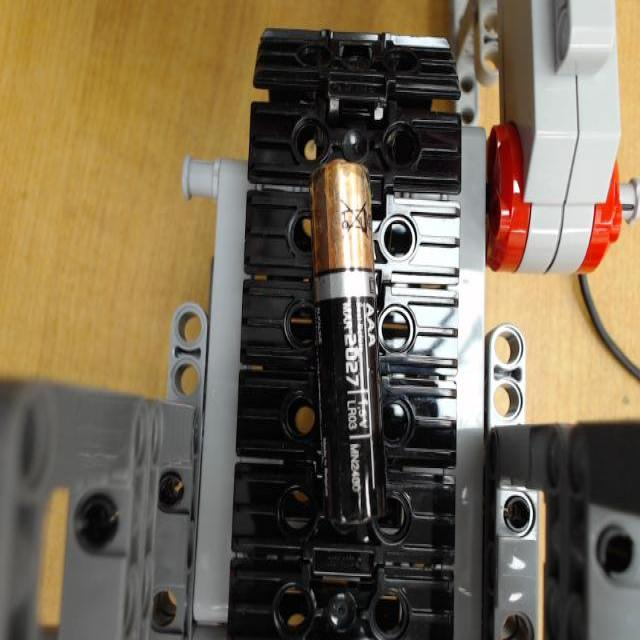AAA: (313, 153, 387, 544)
